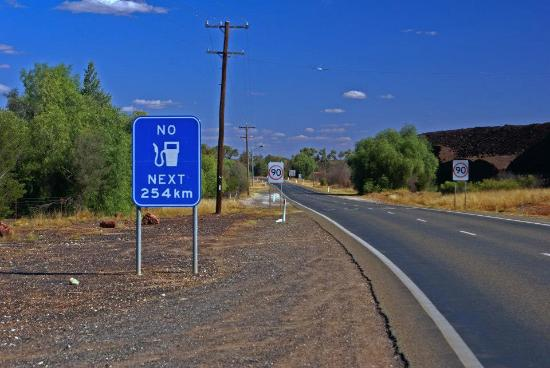fuel-station: (136, 120, 196, 204)
